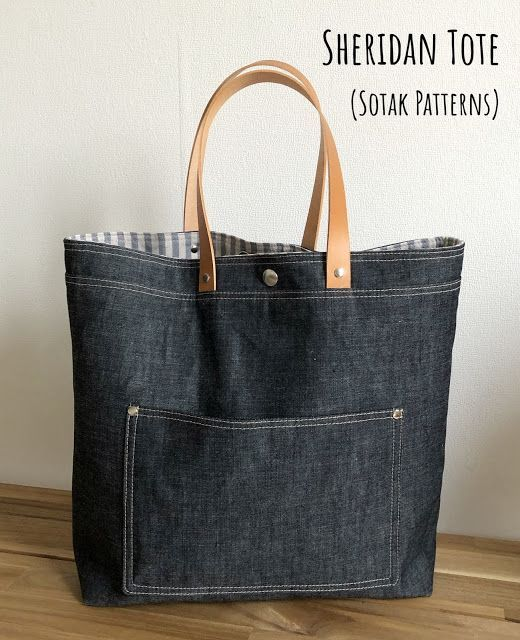cuero: (186, 60, 352, 293)
